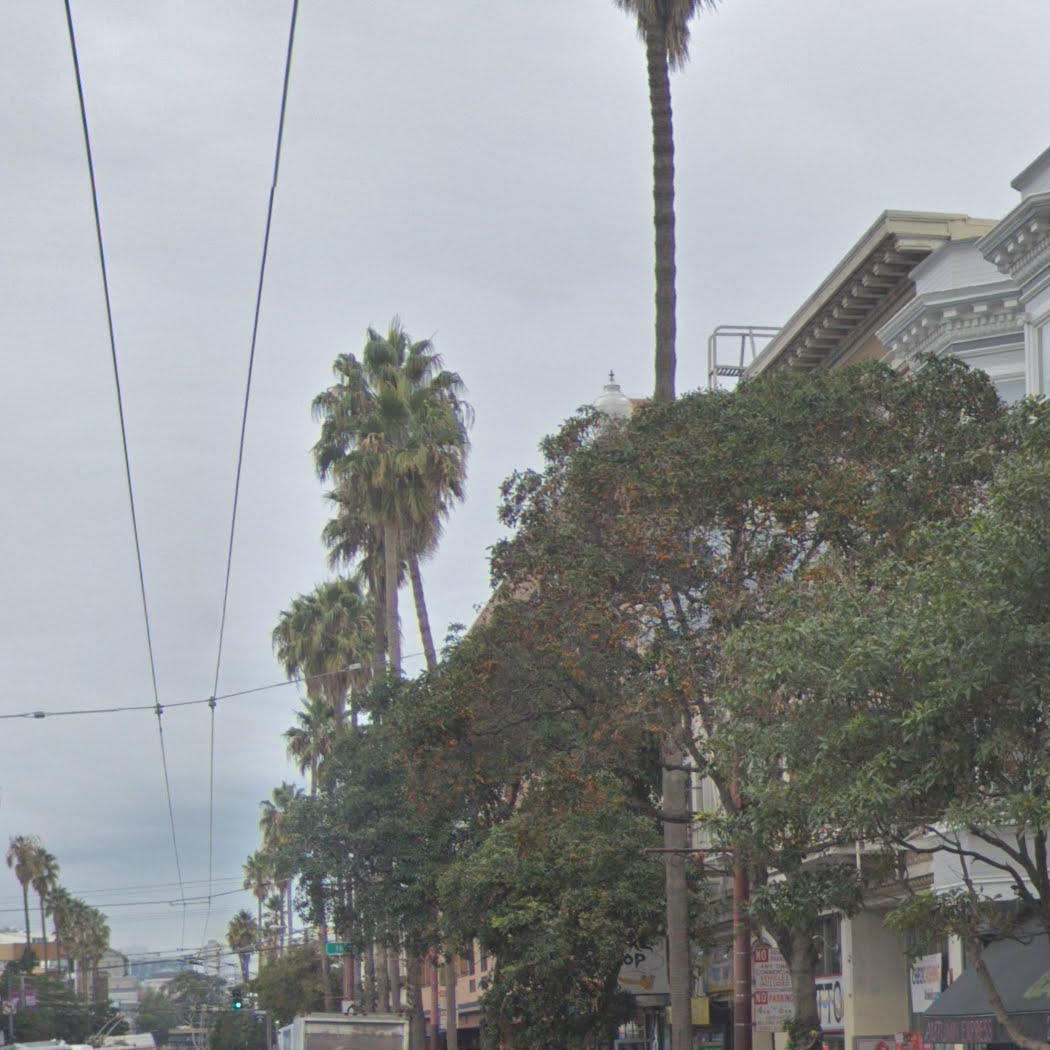No Parking: (751, 988, 800, 1036)
